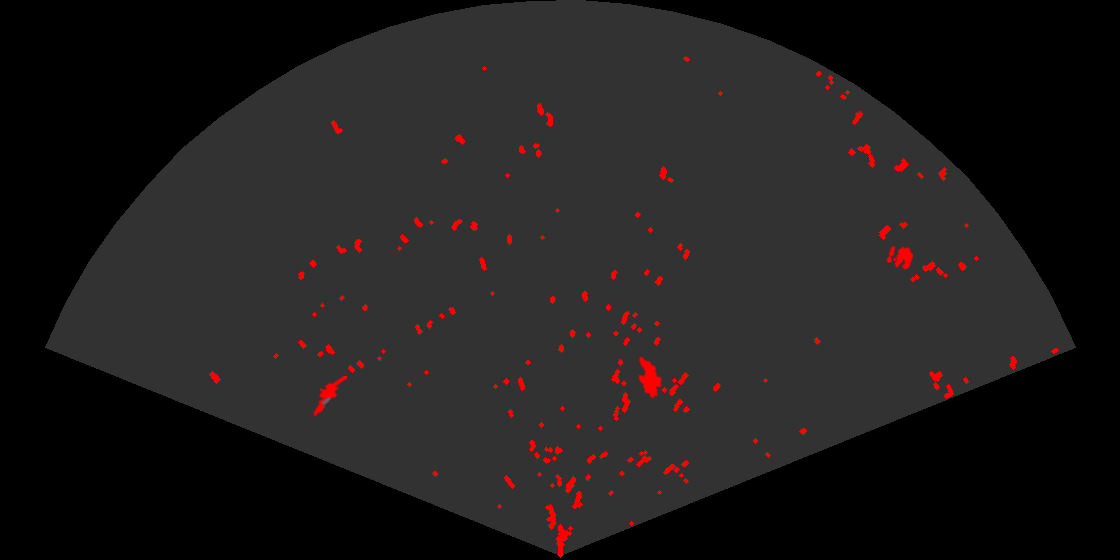AUV: (637, 355, 664, 400)
ball: (885, 244, 915, 272)
frogman: (309, 376, 347, 418)
